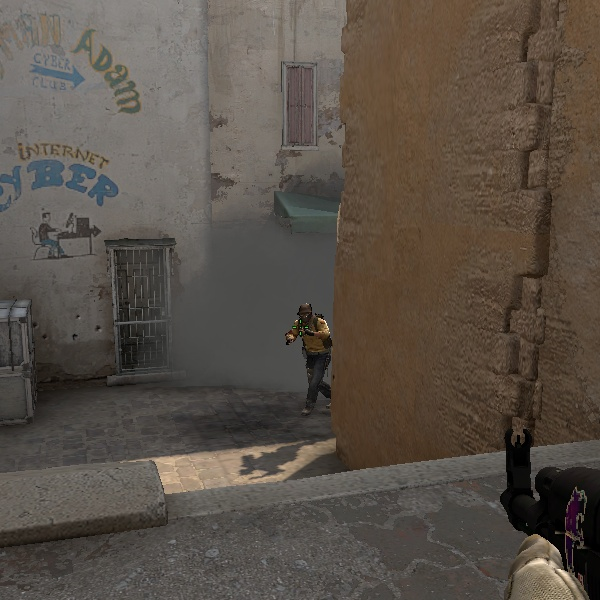t_body: (282, 299, 342, 419)
t_head: (294, 300, 319, 325)
